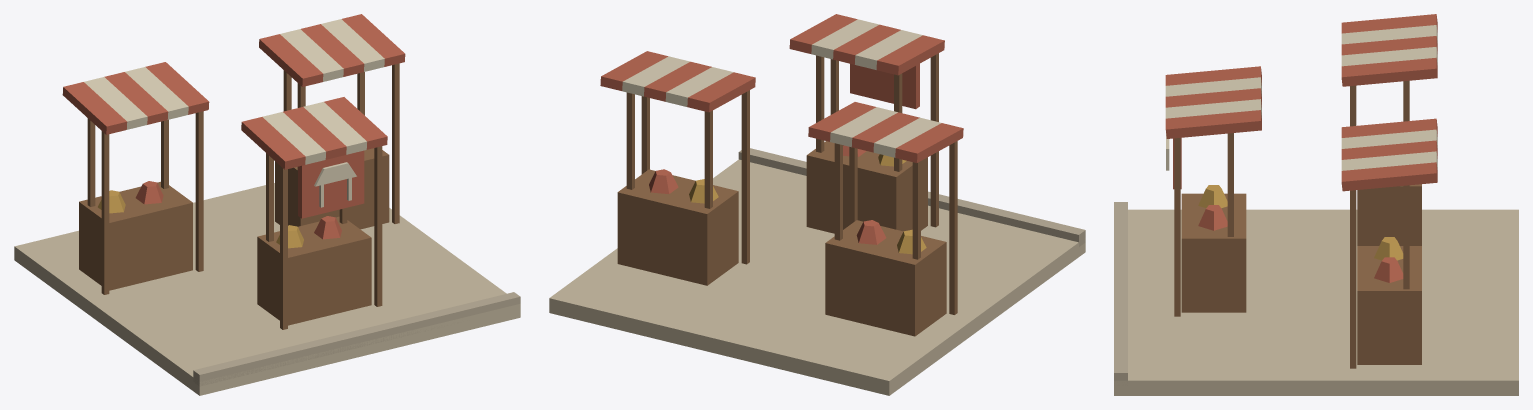
The model's file is market-sunrise-complete.glb.
The picture shows the model from 3 angles, left to right: view 1: azimuth 30°, elevation 25°; view 2: azimuth 150°, elevation 25°; view 3: azimuth 270°, elevation 25°; orthographic projection. The views are drawn at different scales.
Parts seen in each view (by area): view 1: market; view 2: market; view 3: market.
Boxes of the visible parts, left/top/right/bottom form: market: left=14, top=14, right=520, bottom=395; market: left=549, top=14, right=1085, bottom=395; market: left=1114, top=14, right=1518, bottom=395.
Size of the model in its own units: 2.88 by 1.7 by 2.88.
